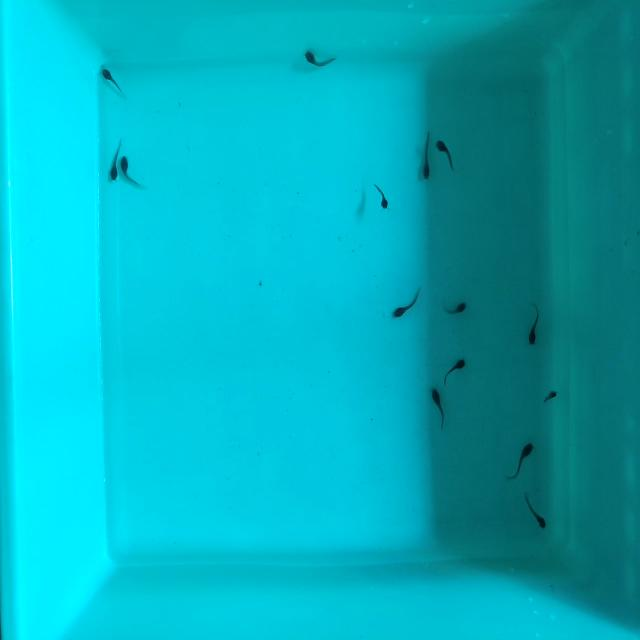lele: (505, 437, 537, 484), (119, 152, 148, 192), (393, 287, 426, 321), (433, 135, 460, 176), (521, 492, 548, 531), (441, 355, 468, 386), (101, 63, 124, 98), (429, 384, 446, 430), (305, 49, 337, 68), (528, 301, 540, 348), (422, 130, 432, 182), (110, 136, 120, 185), (374, 183, 390, 213), (440, 300, 467, 316), (538, 389, 558, 404)
